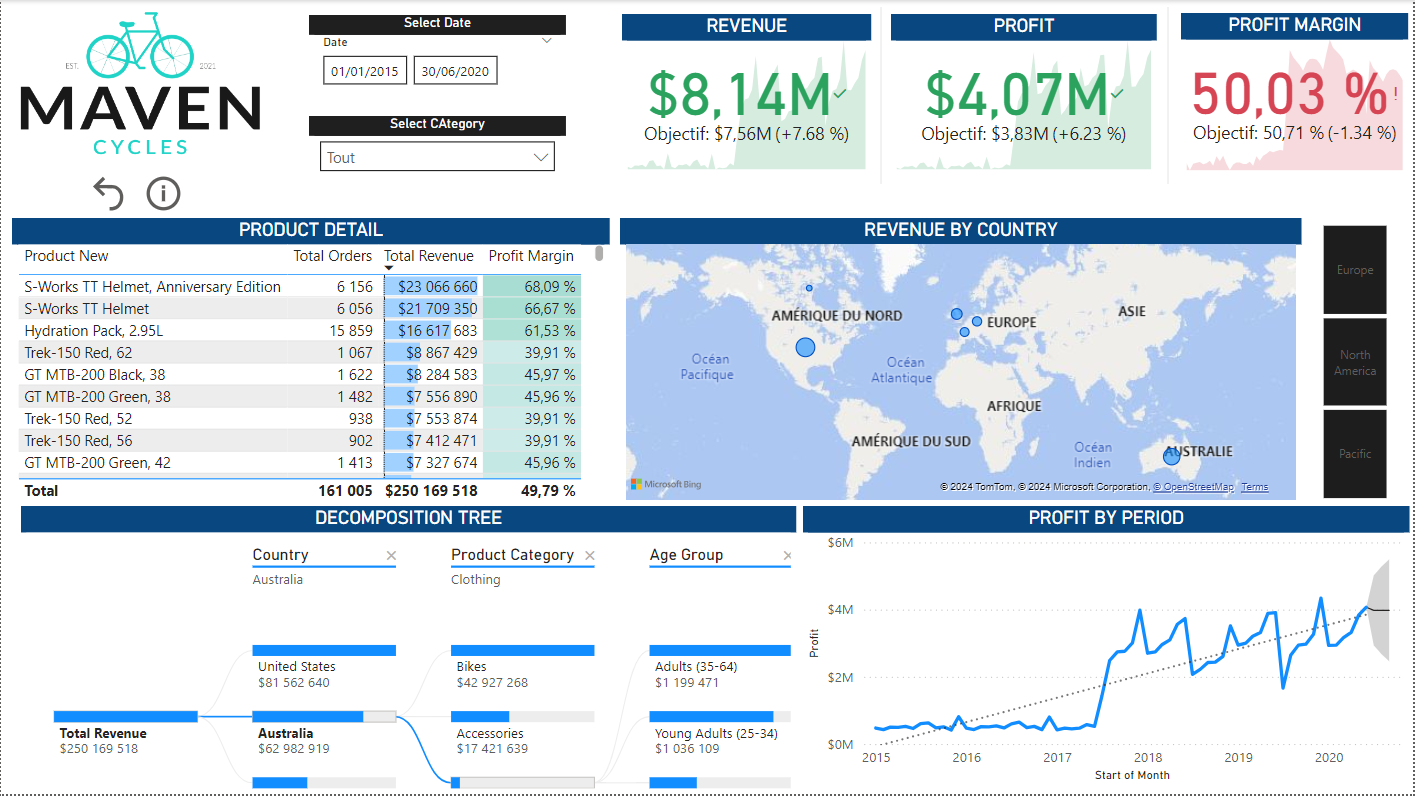

What the dashboard file says about the page in this screenshot:
{"tool":"powerbi","page":{"name":"Executive View","canvas":[1280,720],"ordinal":0},"visuals":[{"type":"kpi","title":"REVENUE","fields":{"Indicator":["Maven Cycles Sales.Total Revenue"],"TrendLine":["Maven Cycles Calendar.Start of Month"],"Goal":["Maven Cycles Sales.Last Month Revenue"]},"box":[563,12.7,226,146],"z":0},{"type":"kpi","title":"PROFIT","fields":{"TrendLine":["Maven Cycles Calendar.Start of Month"],"Goal":["Maven Cycles Sales.Last Month Profit"],"Indicator":["Maven Cycles Sales.Profit"]},"box":[807,12.7,241,146],"z":1000},{"type":"kpi","title":"PROFIT MARGIN","fields":{"TrendLine":["Maven Cycles Calendar.Start of Month"],"Goal":["Maven Cycles Sales.Last Month Profit Margin"],"Indicator":["Maven Cycles Sales.Profit Margin"]},"box":[1070,11.9,206.3,147.6],"z":2000},{"type":"tableEx","title":"PRODUCT DETAIL","fields":{"Values":["Maven Cycles Products.Product New","Maven Cycles Sales.Total Orders","Maven Cycles Sales.Total Revenue","Maven Cycles Sales.Profit Margin"]},"box":[10.3,197.4,542.3,261.2],"z":3000},{"type":"slicer","fields":{"Values":["Maven Cycles Regions.Continent"]},"box":[1173.4,197.7,107,261.2],"z":3500},{"type":"map","title":"REVENUE BY COUNTRY","fields":{"Category":["Maven Cycles Regions.Country"],"Size":["Maven Cycles Sales.Total Revenue"]},"box":[561.3,197.8,618,261],"z":4000},{"type":"lineChart","title":"PROFIT BY PERIOD","fields":{"Y":["Maven Cycles Sales.Profit"],"Category":["Maven Cycles Calendar.Start of Month","Maven Cycles Calendar.Start of Quarter","Maven Cycles Calendar.Year"]},"box":[727.3,458.8,549.5,254.8],"z":5000},{"type":"shape","box":[773.8,6.4,49,160],"z":7000},{"type":"shape","box":[1033.8,6.4,49,160],"z":8000},{"type":"image","box":[0,0,253,150.5],"z":9000},{"type":"slicer","title":"Select Date","fields":{"Values":["Maven Cycles Calendar.Date"]},"box":[279.3,13.3,233,86],"z":10000},{"type":"actionButton","box":[77.1,155.1,43.5,40.8],"z":11000},{"type":"actionButton","box":[127,155.1,42.6,40.8],"z":12000},{"type":"slicer","title":"Select CAtegory","fields":{"Values":["Maven Cycles Product Subcategories.Sub Category"]},"box":[279.3,105.3,233,60],"z":13000},{"type":"decompositionTreeVisual","title":"DECOMPOSITION TREE","fields":{"Analyze":["Maven Cycles Sales.Total Revenue"],"ExplainBy":["Maven Cycles Regions.Country","Maven Cycles Product Categories.Product Category","Maven Cycles Age Group.Age Group"]},"box":[18.1,458.8,702.8,261.2],"z":13001}]}

Visuals, with their boxes in screenshot pixels (x1, y1, x2, y2), scaled from the page's 1280x720 canvas onto the 1415x796 screenshot:
"REVENUE" kpi: (left=622, top=14, right=872, bottom=175)
"PROFIT" kpi: (left=892, top=14, right=1159, bottom=175)
"PROFIT MARGIN" kpi: (left=1183, top=13, right=1411, bottom=176)
"PRODUCT DETAIL" tableEx: (left=11, top=218, right=611, bottom=507)
slicer - Maven Cycles Regions.Continent: (left=1297, top=219, right=1414, bottom=507)
"REVENUE BY COUNTRY" map: (left=620, top=219, right=1304, bottom=507)
"PROFIT BY PERIOD" lineChart: (left=804, top=507, right=1411, bottom=789)
shape: (left=855, top=7, right=910, bottom=184)
shape: (left=1143, top=7, right=1197, bottom=184)
image: (left=0, top=0, right=280, bottom=166)
"Select Date" slicer: (left=309, top=15, right=566, bottom=110)
actionButton: (left=85, top=171, right=133, bottom=217)
actionButton: (left=140, top=171, right=187, bottom=217)
"Select CAtegory" slicer: (left=309, top=116, right=566, bottom=183)
"DECOMPOSITION TREE" decompositionTreeVisual: (left=20, top=507, right=797, bottom=795)
